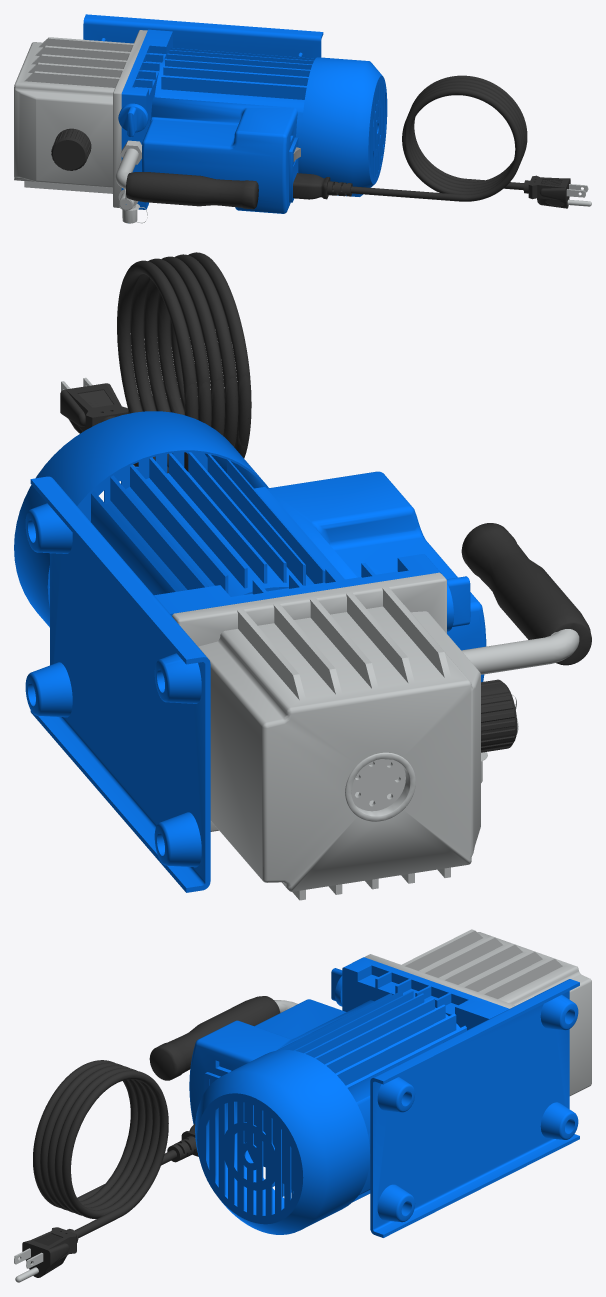
Rendered from 13-Vacuum Pump_A.FBX.
The picture shows the model from 3 angles, top to bottom: view 1: azimuth 30°, elevation 25°; view 2: azimuth 150°, elevation 25°; view 3: azimuth 270°, elevation 25°; orthographic projection. The views are drawn at different scales.
Parts seen in each view (by area): view 1: Vacuum Pump_A, Vacuum Pump_B; view 2: Vacuum Pump_A, Vacuum Pump_B; view 3: Vacuum Pump_A, Vacuum Pump_B.
Boxes of the visible parts, x1,y1,x2,y2 form: Vacuum Pump_A: [14, 14, 432, 223]; Vacuum Pump_B: [402, 75, 591, 208]; Vacuum Pump_A: [14, 411, 591, 900]; Vacuum Pump_B: [60, 252, 251, 473]; Vacuum Pump_A: [149, 929, 591, 1237]; Vacuum Pump_B: [14, 1060, 168, 1282].
Size of the model in its own units: 55.78 by 19.89 by 55.58.
2 materials, 1 textured.
